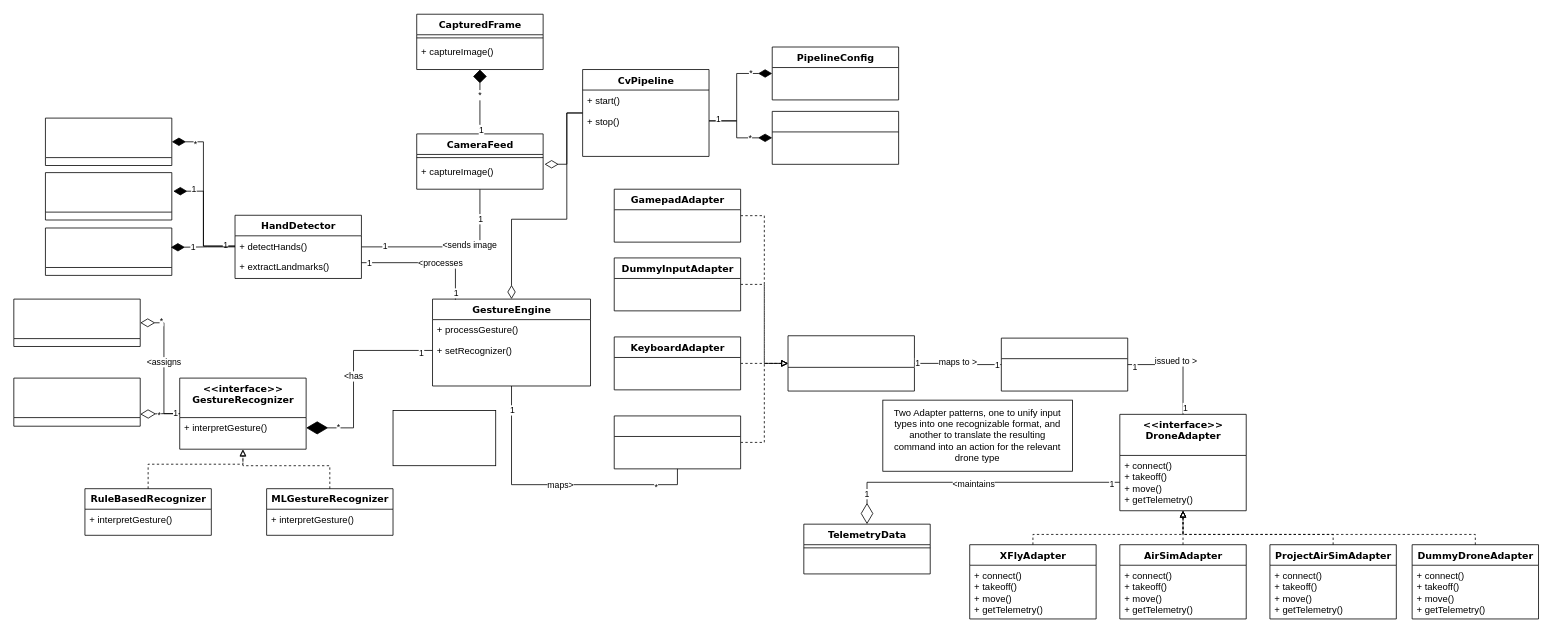
Some shapes in this 1552 by 634 pixel diagram are drawn without their labels. Each missing label, with the centre of its shape:
<<interface>> InputAdapter: the point at 850,363
Command: the point at 1064,364
DetectedHand: the point at 108,196
DetectorConfig: the point at 108,251
FingerState: the point at 76,401
GestureAdapter: the point at 677,442
GestureResult: the point at 76,322
HandLandmark: the point at 108,141
PipelineEvent: the point at 835,137
Strategy pattern to dynamically choose which recognition method to use.: the point at 444,438
